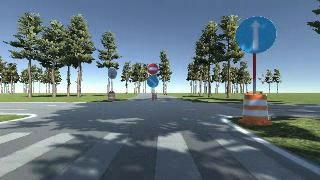go_ahead: (234, 17, 276, 54)
